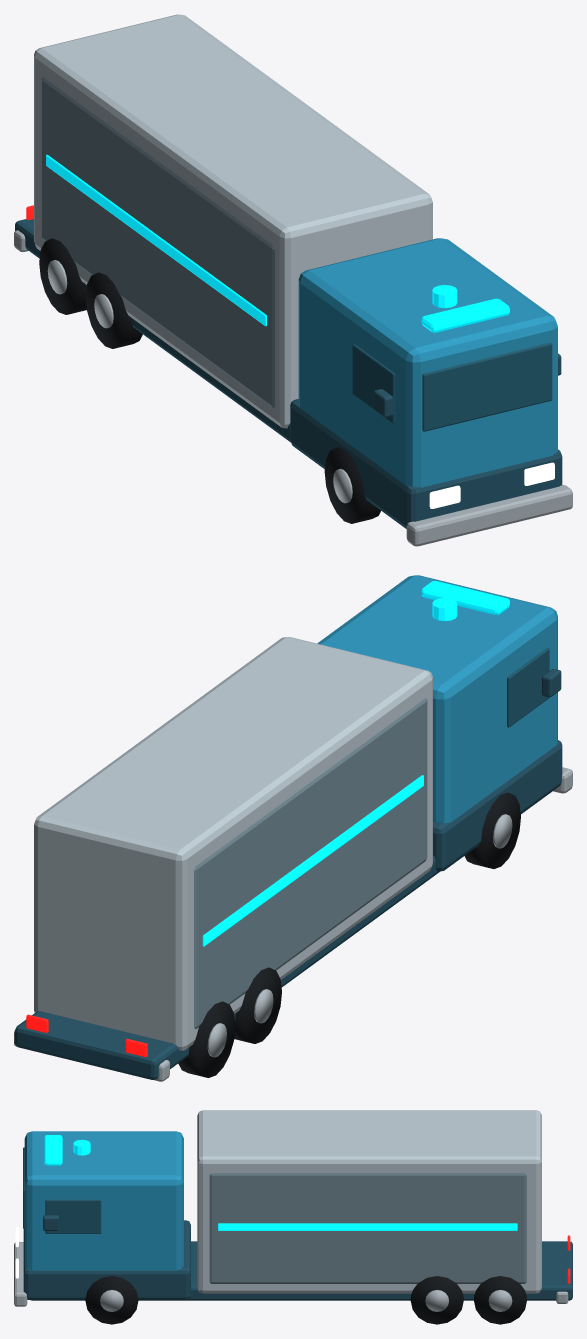
Rendered from rm2-truck.glb.
The picture shows the model from 3 angles, top to bottom: view 1: azimuth 30°, elevation 25°; view 2: azimuth 150°, elevation 25°; view 3: azimuth 270°, elevation 25°; orthographic projection. The views are drawn at different scales.
Parts seen in each view (by area): view 1: CargoBox, Cab, CargoSidePanel, CabLower, Windshield, FrontBumper, CargoStripeLeft, Wheel_1_L, Wheel_0_L, Wheel_2_L, Chassis, SideWindowL (+1 smaller); view 2: CargoBox, CargoSidePanel, Cab, Chassis, CabLower, CargoStripeLeft, Wheel_2_L, Wheel_0_L, Wheel_1_L, SideWindowL, RoofMarker; view 3: CargoSidePanel, CargoBox, Cab, CabLower, Chassis, CargoStripeRight, SideWindowR, Wheel_1_R, Wheel_2_R, Wheel_0_R, FrontBumper, RoofMarker (+3 smaller).
Boxes of the visible parts, x1,y1,x2,y2 form: CargoBox: (34, 14, 432, 428); Cab: (298, 238, 557, 487); CargoSidePanel: (41, 77, 274, 408); CabLower: (290, 399, 562, 528); Windshield: (422, 342, 552, 431); FrontBumper: (406, 485, 572, 546); CargoStripeLeft: (46, 154, 266, 326); Wheel_1_L: (85, 272, 142, 348); Wheel_0_L: (324, 447, 380, 523); Wheel_2_L: (39, 238, 86, 314); Chassis: (15, 219, 290, 442); SideWindowL: (352, 344, 395, 423); CargoBox: (34, 637, 432, 1050); CargoSidePanel: (194, 698, 427, 1029); Cab: (317, 575, 557, 823); Chassis: (15, 856, 439, 1079); CabLower: (433, 740, 562, 871); CargoStripeLeft: (202, 775, 423, 946); Wheel_2_L: (178, 1001, 235, 1077); Wheel_0_L: (464, 792, 520, 868); Wheel_1_L: (234, 967, 281, 1043); SideWindowL: (507, 648, 549, 727); RoofMarker: (421, 581, 509, 614); CargoSidePanel: (209, 1173, 526, 1283); CargoBox: (197, 1110, 541, 1293); Cab: (24, 1131, 183, 1270); CabLower: (23, 1220, 190, 1299); Chassis: (30, 1241, 572, 1300); CargoStripeRight: (218, 1223, 517, 1230); SideWindowR: (45, 1199, 101, 1233); Wheel_1_R: (410, 1276, 463, 1324); Wheel_2_R: (474, 1276, 526, 1324); Wheel_0_R: (85, 1276, 138, 1324); FrontBumper: (14, 1242, 27, 1306); RoofMarker: (44, 1135, 62, 1165).
Size of the model in its own units: 2.94 by 3.83 by 11.76.
